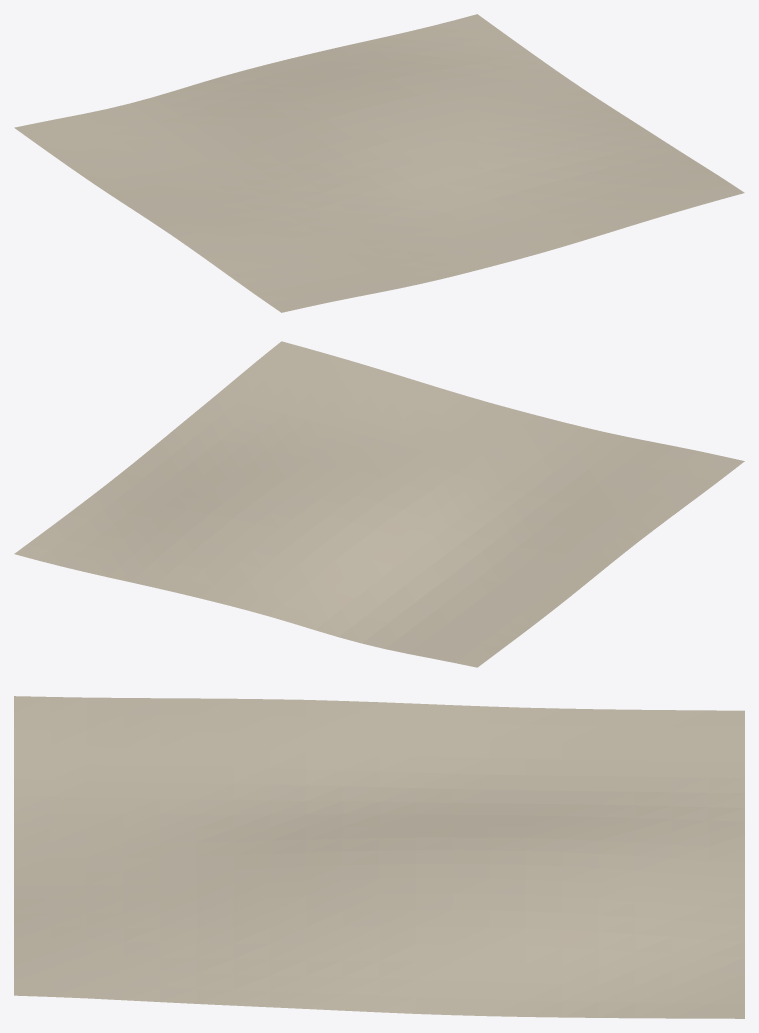
File: bolak_-24_8.glb
3 views of the same model, one above another, from view 1: azimuth 30°, elevation 25°; view 2: azimuth 150°, elevation 25°; view 3: azimuth 270°, elevation 25° (orthographic). The views are drawn at different scales.
Visible parts, largest first — view 1: Yer_Tuproq-col; view 2: Yer_Tuproq-col; view 3: Yer_Tuproq-col.
Boxes of the visible parts, x1=… form: Yer_Tuproq-col: x1=14, y1=14, x2=744, y2=312; Yer_Tuproq-col: x1=14, y1=341, x2=744, y2=667; Yer_Tuproq-col: x1=14, y1=696, x2=744, y2=1018.
Bounding box in the file's own units: 400 × 17.8 × 400.
